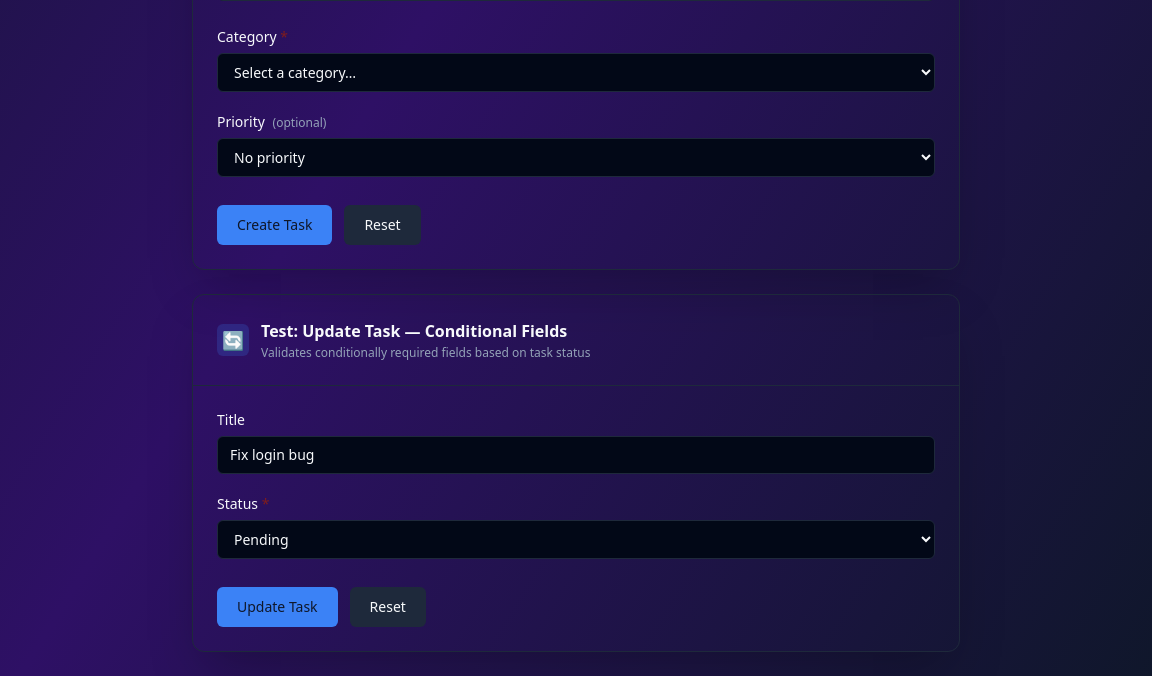
Scenario: Update Task — Conditional Fields › allows submit when status is blocked and blocked reason is provided
(page scrolled)
Select "Blocked" in the dropdown with id "update-status": (576, 540) [217,520,935,559]
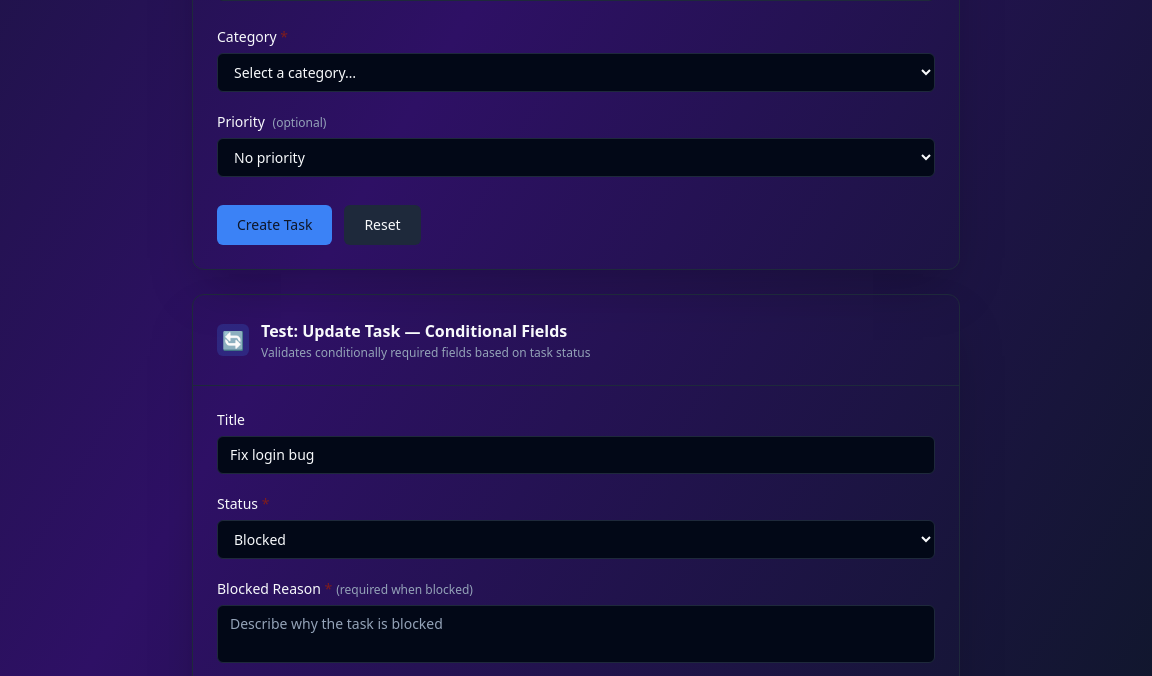
In the text box with id "update-blocked-reason": (576, 634) [217,605,935,663], type "Waiting for API credentials"
(page scrolled)
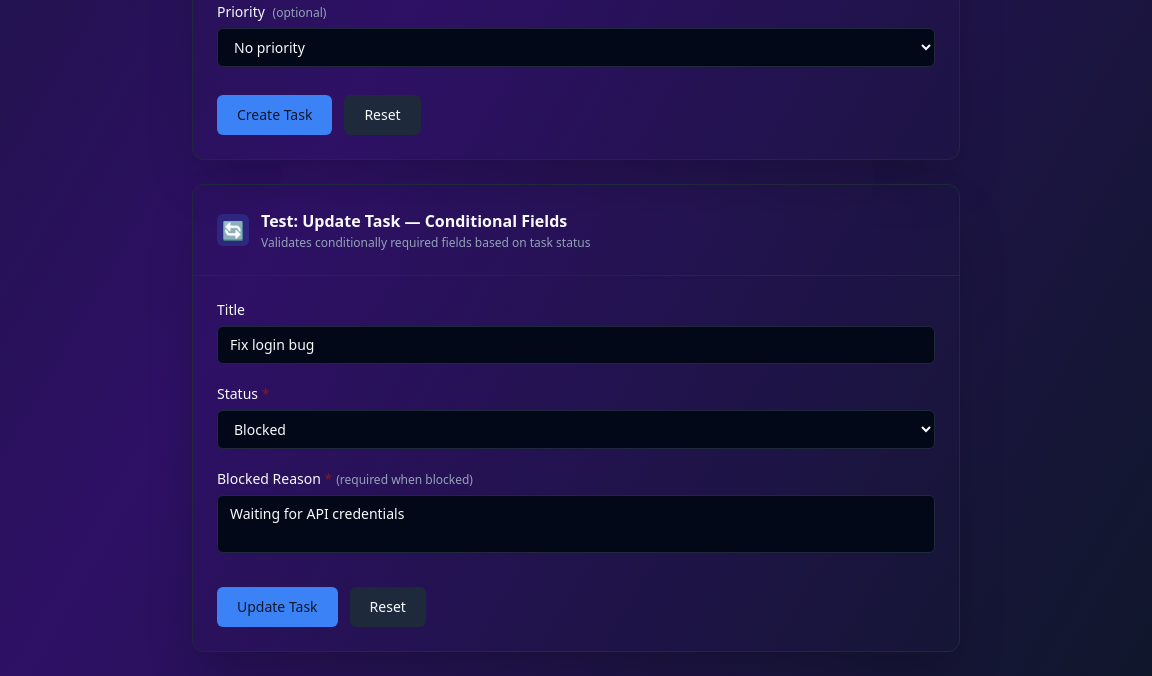
Submit the form with id "update-form", box [217,300,935,627]
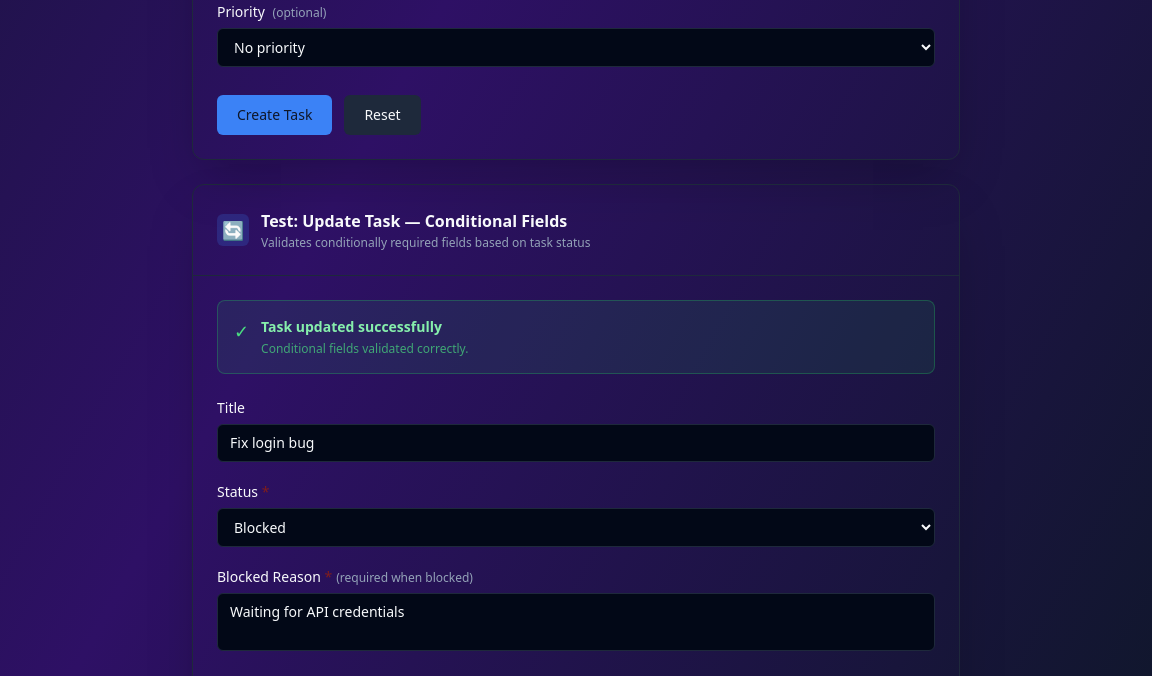
Expected: the text "Task updated successfully" is shown, [261,317,468,337]
